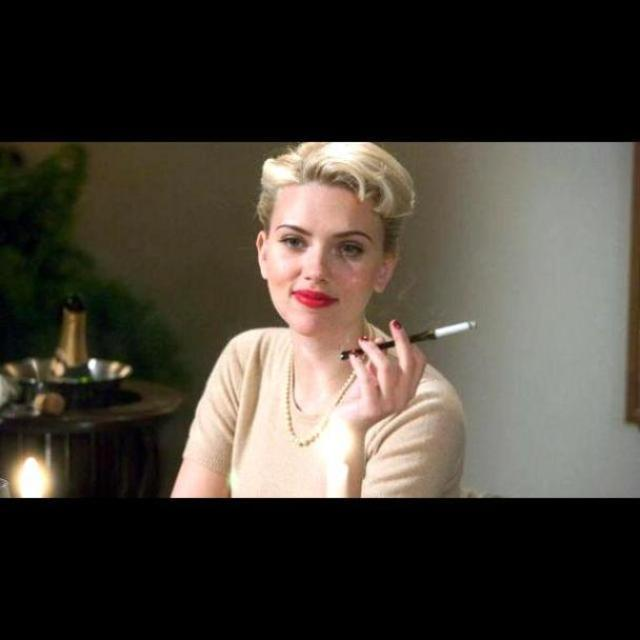rokok: (437, 316, 479, 344)
